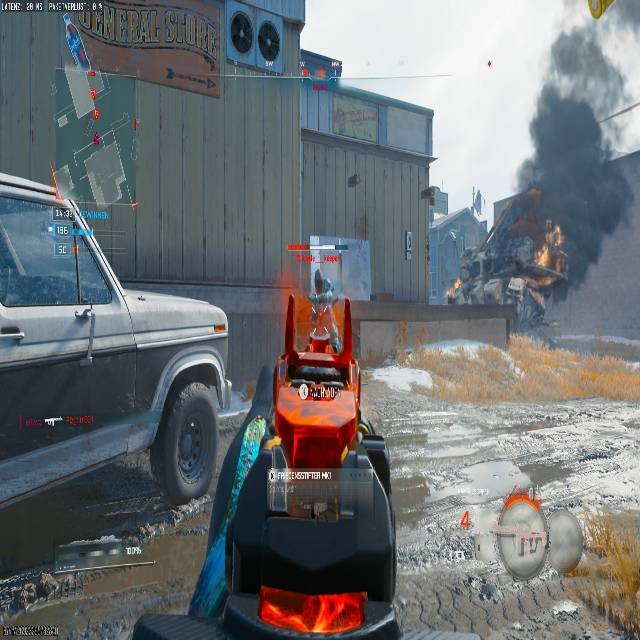head: (492, 474, 548, 575), (313, 269, 322, 281)
player: (456, 470, 638, 639), (472, 222, 569, 346), (307, 269, 337, 335), (312, 267, 332, 301)
